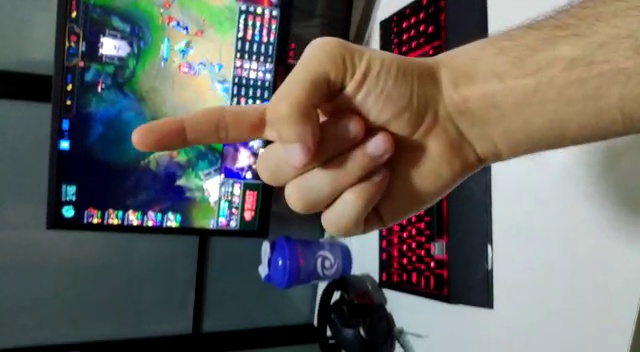One: (132, 45, 444, 219)
